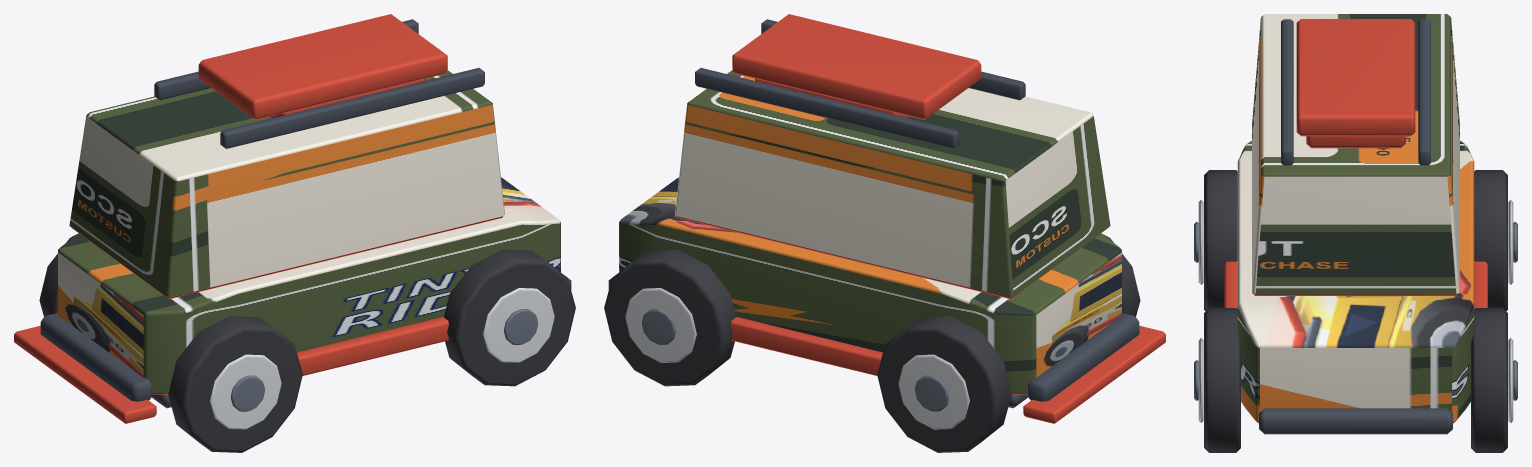
3 renders of one model, left to right at view 1: azimuth 30°, elevation 25°; view 2: azimuth 150°, elevation 25°; view 3: azimuth 270°, elevation 25°, orthographic. The views are drawn at different scales.
Parts seen in each view (by area): view 1: DP-05_cabin, DP-05_connected_shell, utility load, Tire, Tire.002, utility rail, custom side guard, custom chin, front bumper, Rim, Rim.002, utility rail.001 (+3 smaller); view 2: DP-05_cabin, DP-05_connected_shell, utility load, Tire.001, Tire.003, utility rail.001, custom side guard.001, custom chin, front bumper, Rim.001, Rim.003, utility rail (+3 smaller); view 3: DP-05_cabin, DP-05_connected_shell, utility load, Tire.002, Tire.003, rear bumper, Tire, Tire.001, utility rail, utility rail.001, custom equipment, custom side guard (+5 smaller).
Part boxes in pixels (x1,y1,x2,y2): DP-05_cabin: (69, 70, 504, 298); DP-05_connected_shell: (58, 177, 560, 394); utility load: (198, 14, 447, 119); Tire: (168, 316, 302, 452); Tire.002: (444, 249, 575, 386); utility rail: (220, 68, 484, 148); custom side guard: (297, 316, 448, 375); custom chin: (14, 325, 156, 423); front bumper: (40, 313, 152, 401); Rim: (210, 354, 281, 429); Rim.002: (483, 288, 554, 362); utility rail.001: (154, 19, 418, 100); DP-05_cabin: (675, 70, 1110, 298); DP-05_connected_shell: (619, 177, 1121, 394); utility load: (732, 14, 981, 119); Tire.001: (877, 316, 1011, 452); Tire.003: (604, 249, 735, 386); utility rail.001: (695, 68, 959, 148); custom side guard.001: (731, 316, 882, 375); custom chin: (1023, 325, 1165, 423); front bumper: (1027, 313, 1139, 401); Rim.001: (898, 354, 969, 429); Rim.003: (625, 288, 696, 362); utility rail: (761, 19, 1025, 100); DP-05_cabin: (1252, 14, 1459, 295); DP-05_connected_shell: (1237, 141, 1474, 423); utility load: (1296, 19, 1415, 136); Tire.002: (1204, 308, 1240, 452); Tire.003: (1471, 308, 1507, 452); rear bumper: (1259, 408, 1452, 434); Tire: (1204, 170, 1237, 311); Tire.001: (1474, 170, 1507, 311); utility rail: (1281, 19, 1293, 165); utility rail.001: (1418, 19, 1430, 165); custom equipment: (1306, 136, 1405, 148); custom side guard: (1224, 261, 1237, 308).
Size of the model in its own units: 384 by 247 by 227.
